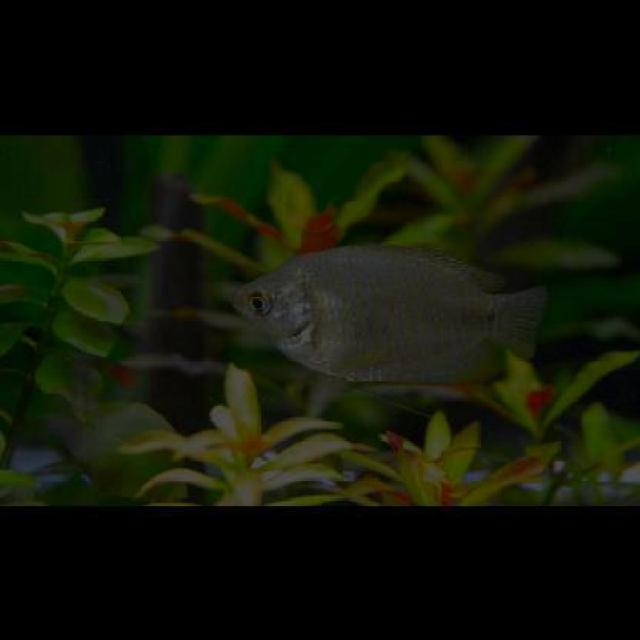Gourami: (222, 241, 548, 396)
